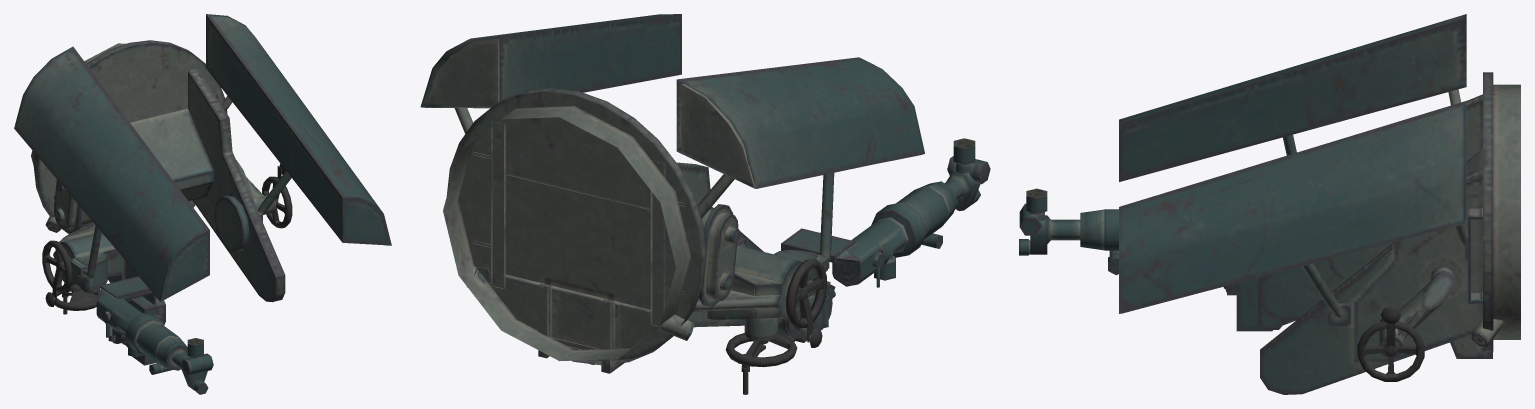
The model's file is Turret_01.glb.
3 views of the same model, side by side, from view 1: azimuth 30°, elevation 25°; view 2: azimuth 150°, elevation 25°; view 3: azimuth 270°, elevation 25° (orthographic). The views are drawn at different scales.
Parts seen in each view (by area): view 1: set_0_group_0; view 2: set_0_group_0; view 3: set_0_group_0.
Boxes of the visible parts, left/top/right/bottom form: set_0_group_0: left=14, top=14, right=391, bottom=394; set_0_group_0: left=420, top=14, right=990, bottom=394; set_0_group_0: left=1019, top=14, right=1520, bottom=394.
Bounding box in the file's own units: 0.9299 × 0.8545 × 1.23.
1 material, 1 textured.
